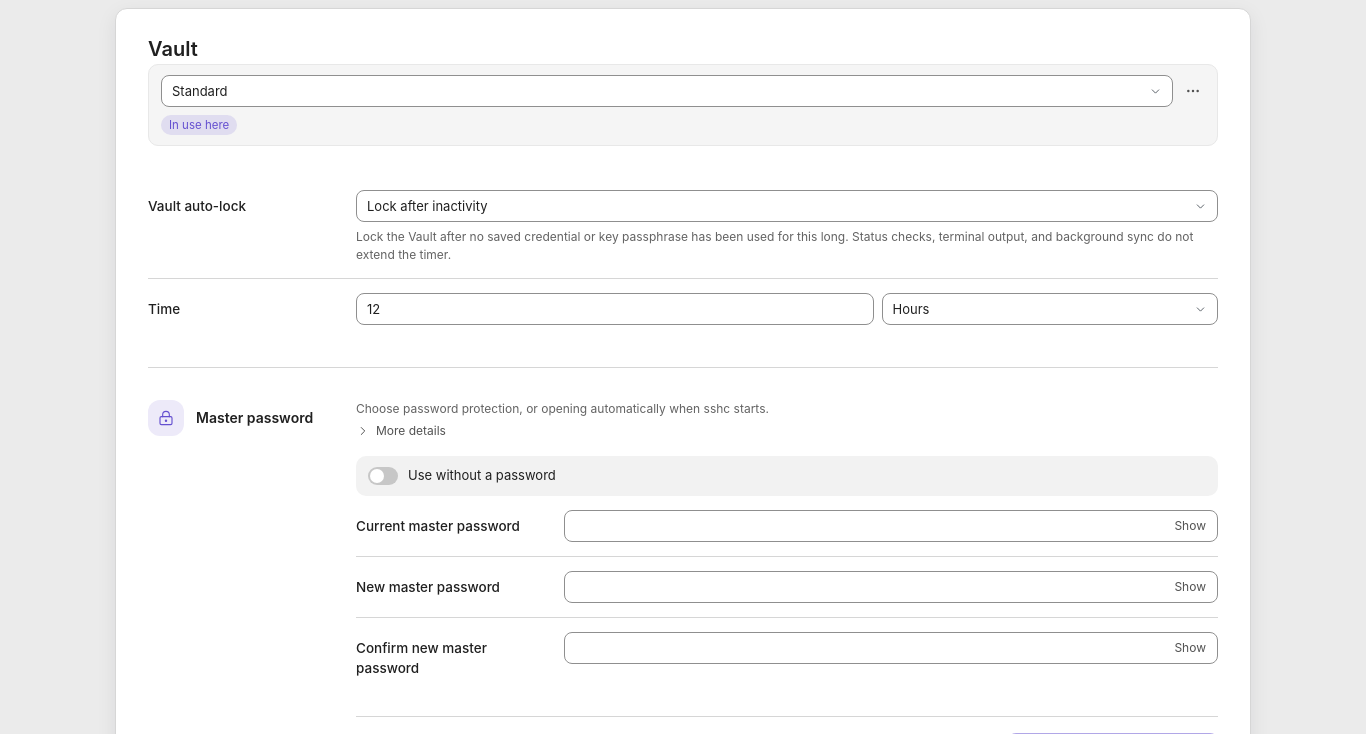
Test: SettingsPanel › loads the twelve-hour default and saves a timed Vault lock in the preset being edited
This screenshot has width=1366, height=734.
Expected: the dropdown labelled "Vault auto-lock" is enabled, [356,190,1218,222]
Expected: the dropdown labelled "Vault auto-lock" shows "Lock after inactivity", [356,190,1218,222]
Replace the text in the number field named "Time" with "45" at (615, 309), box [356,293,874,325]
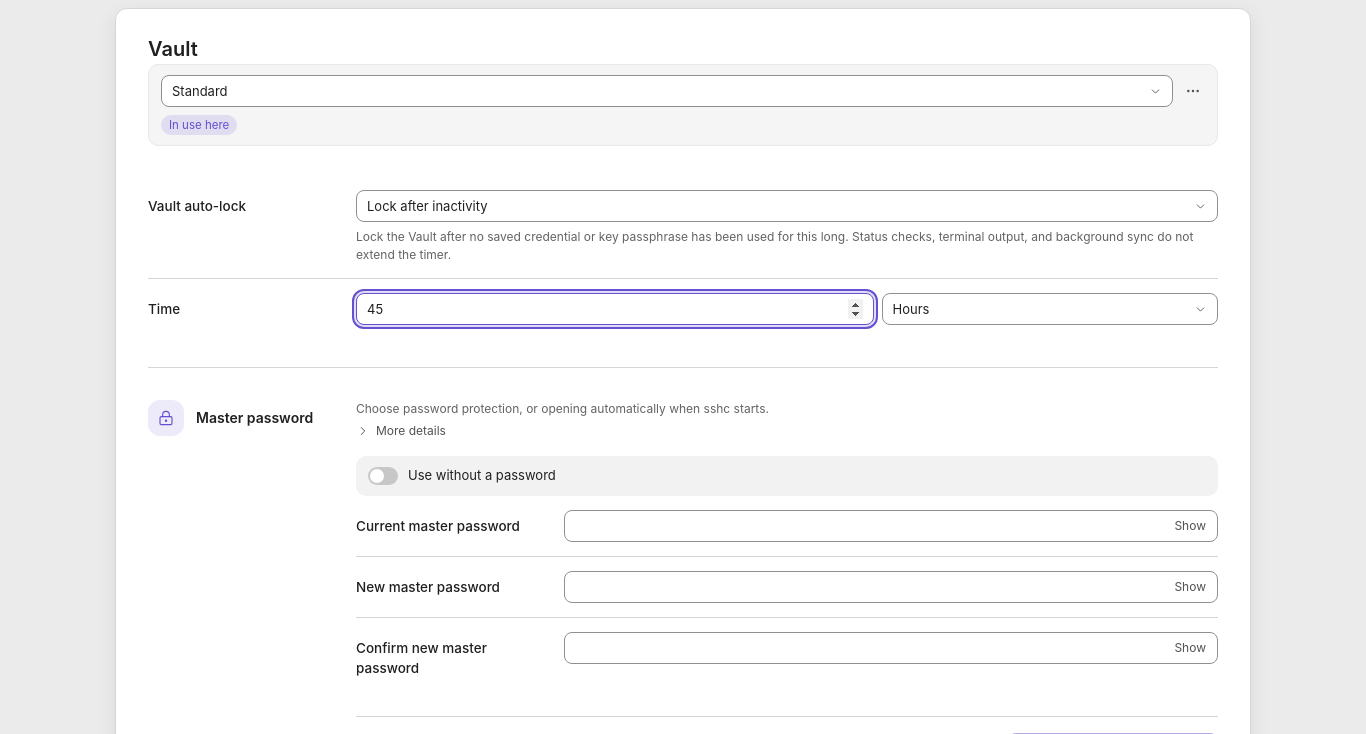
Select "Minutes" in the dropdown named "Unit" at (1050, 309), box [882,293,1218,325]
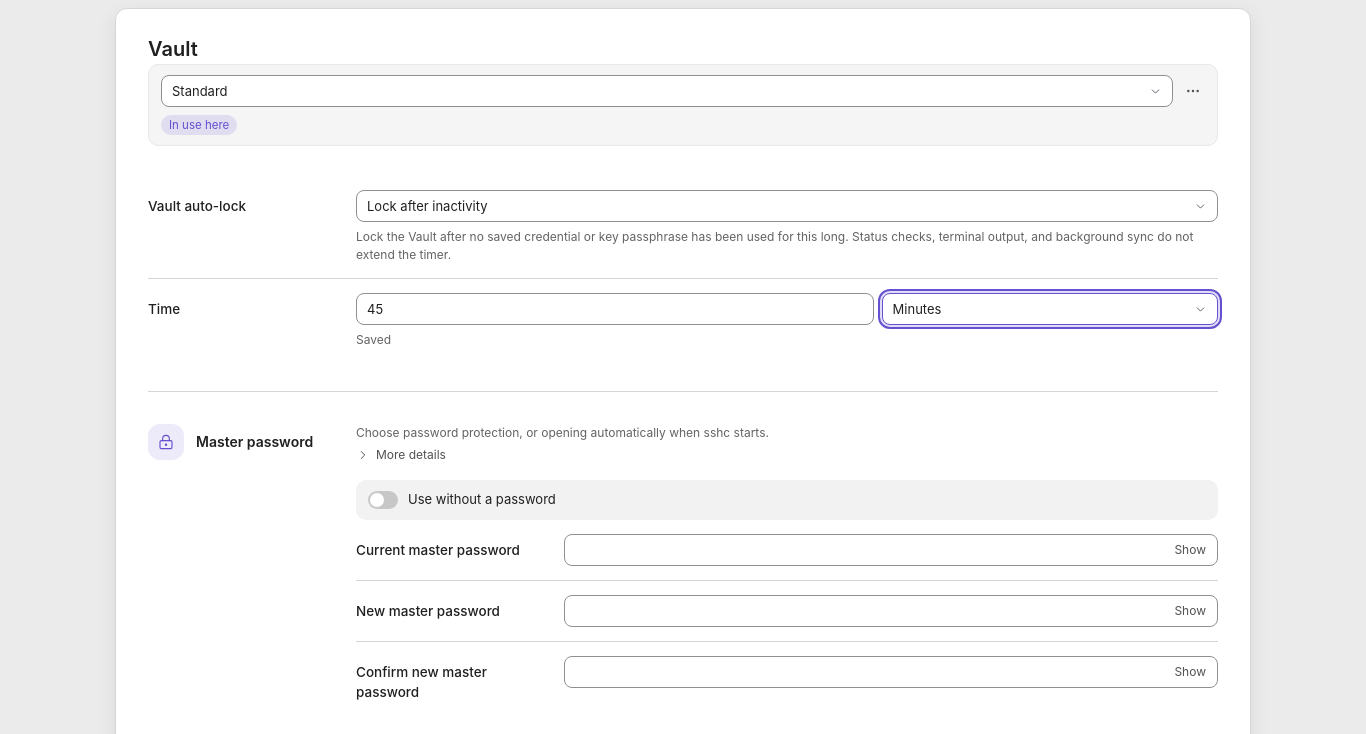
Expected: the element labelled "Vault auto-lock" does not show "Saved", [356,229,1193,262]
Expected: the element named "Unit" shows "Saved", [356,332,391,347]
